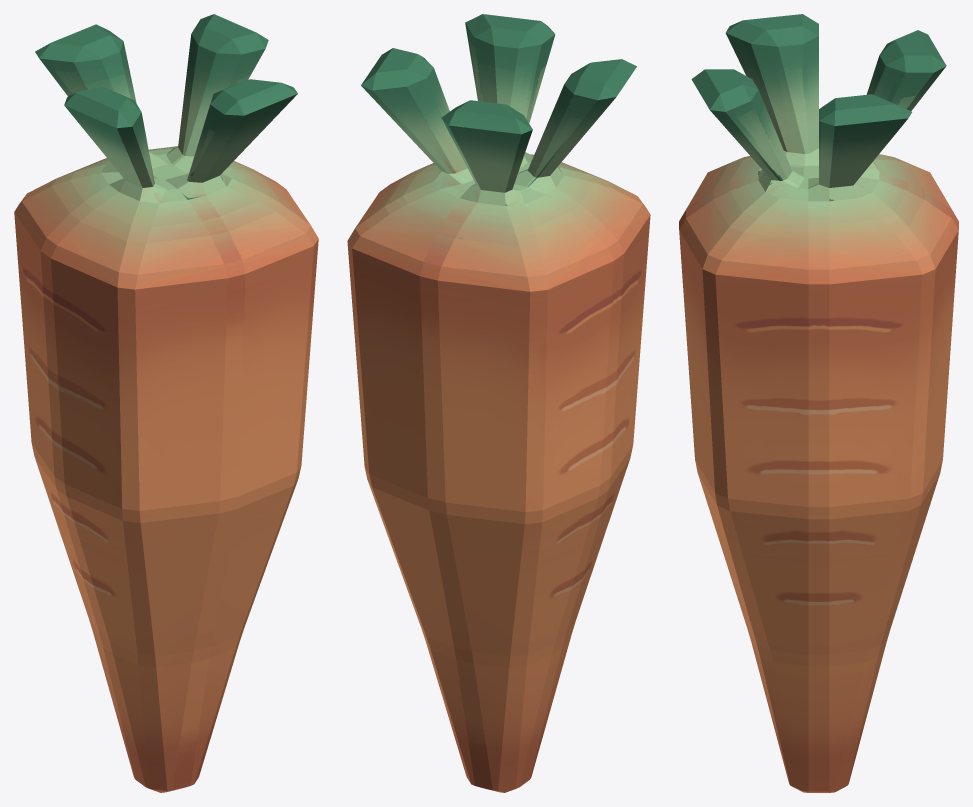
Rendered from Carrot.fbx.
3 views of the same model, side by side, from view 1: azimuth 30°, elevation 25°; view 2: azimuth 150°, elevation 25°; view 3: azimuth 270°, elevation 25° (orthographic).
Parts seen in each view (by area): view 1: Carrot; view 2: Carrot; view 3: Carrot.
Boxes of the visible parts, left/top/right/bottom form: Carrot: left=14, top=14, right=318, bottom=792; Carrot: left=347, top=14, right=650, bottom=792; Carrot: left=679, top=14, right=958, bottom=792.
Size of the model in its own units: 139 by 396 by 139.
1 material, 1 textured.
